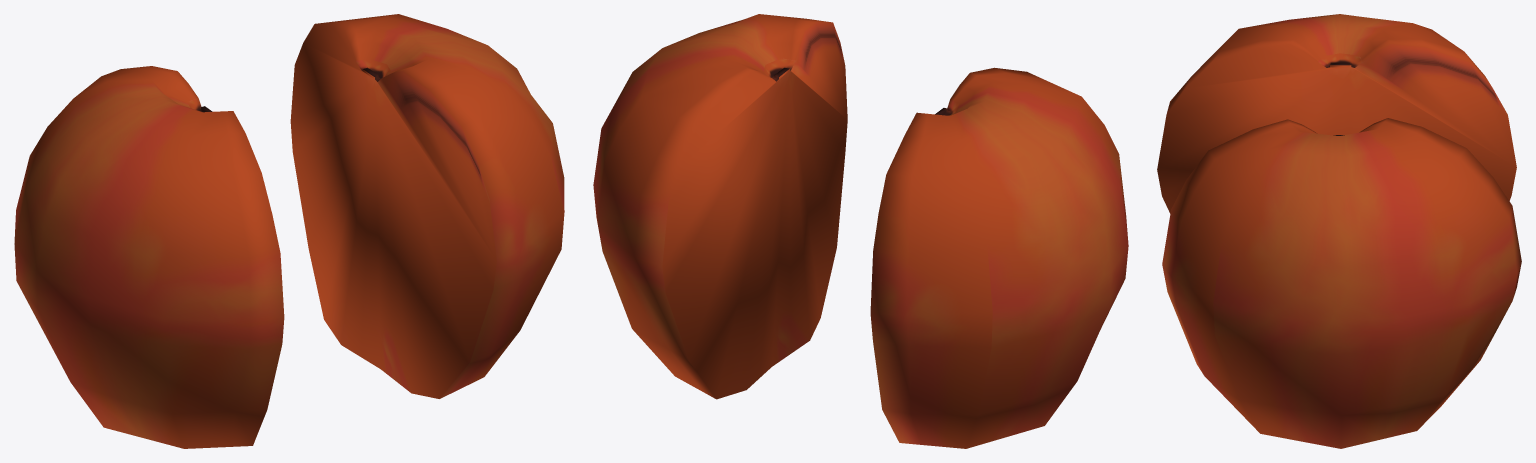
Rendered from omenapuolikas (1).fbx.
The picture shows the model from 3 angles, left to right: view 1: azimuth 30°, elevation 25°; view 2: azimuth 150°, elevation 25°; view 3: azimuth 270°, elevation 25°; orthographic projection. The views are drawn at different scales.
Visible parts, largest first — view 1: Cube, Cube.002; view 2: Cube.002, Cube; view 3: Cube, Cube.002.
Boxes of the visible parts, x1,y1,x2,y2 form: Cube: (290,14,564,398); Cube.002: (14,66,284,448); Cube.002: (870,67,1128,448); Cube: (593,14,847,399); Cube: (1162,118,1521,448); Cube.002: (1157,14,1516,213).
Bounding box in the file's own units: 383 × 233 × 262.
